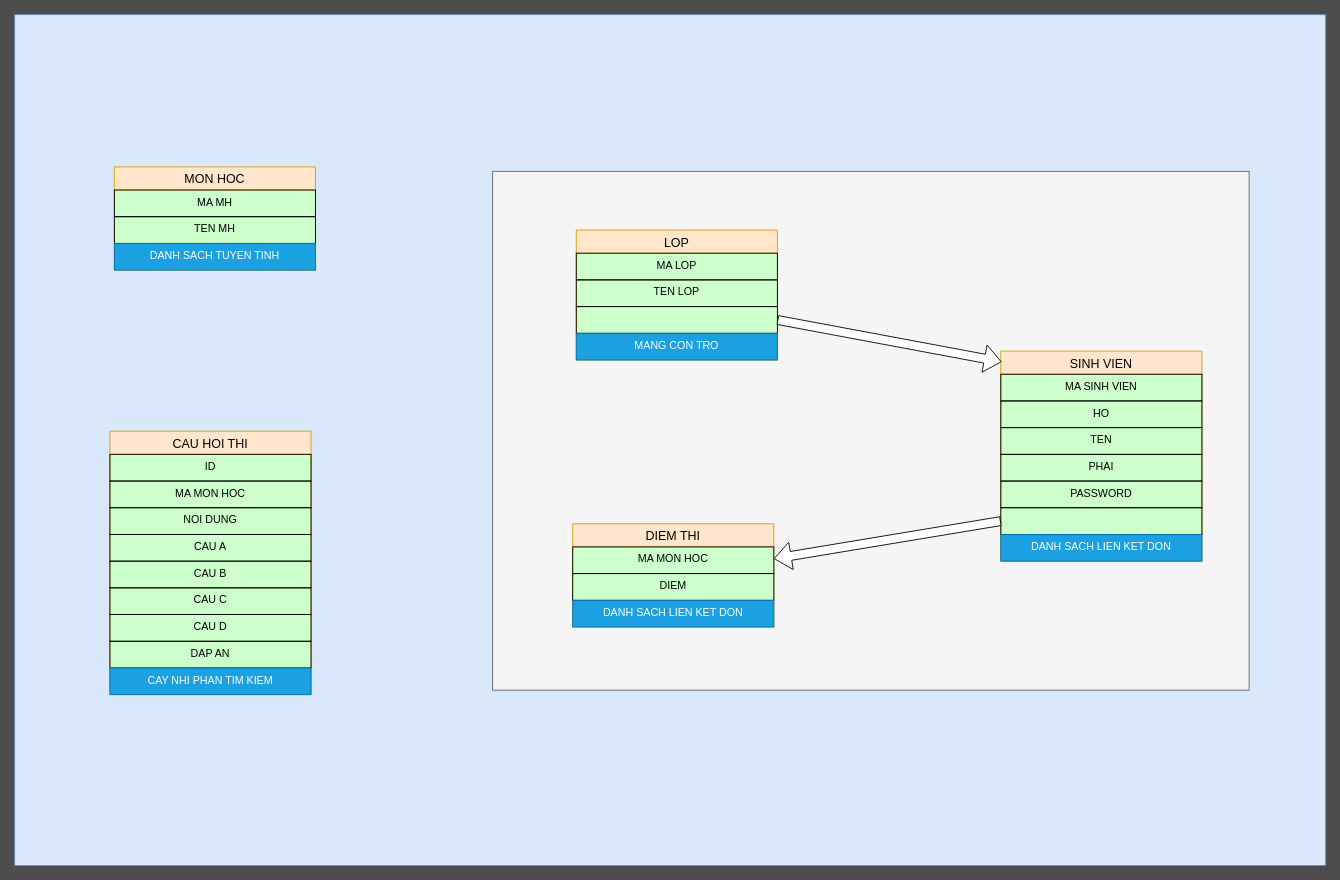
This 1340x880 diagram has some shape labels left out. Here are the shapes that lost their labels. From the top down, the centre of each, then its label:
At (676,319): "DS SINH VIEN".
At (1101,520): "DS DIEM".
